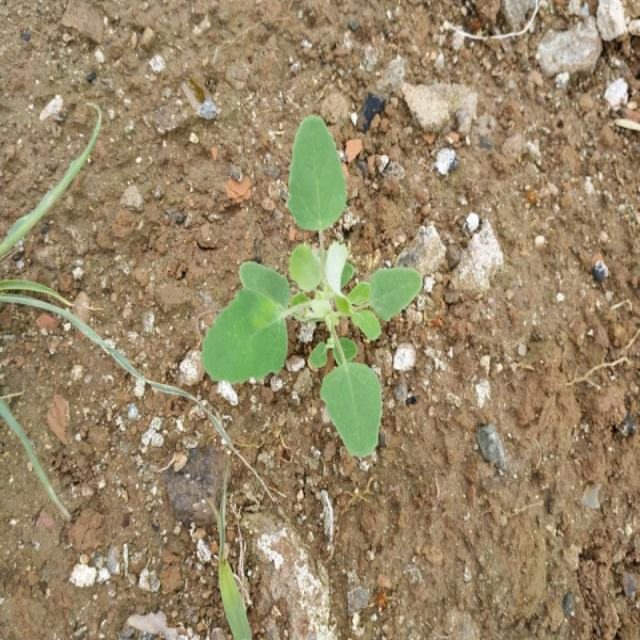ca: (201, 112, 424, 459)
